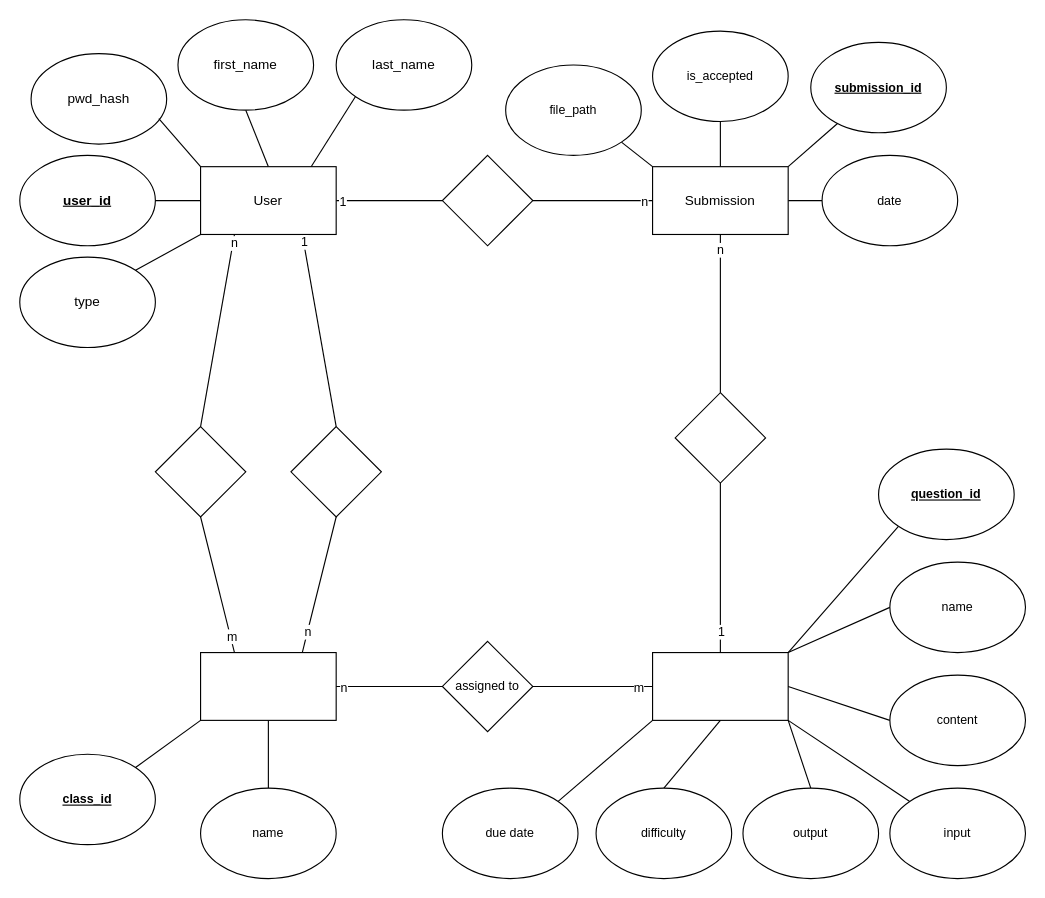
This 1045x898 diagram has some shape labels left out. Here are the shapes that lost their labels. From the top down, the centre of each, then its label:
At [487,200]: "submits".
At [720,437]: "belongs to".
At [200,471]: "is student".
At [335,471]: "is teacher".
At [267,685]: "Classroom".
At [719,685]: "Question".
